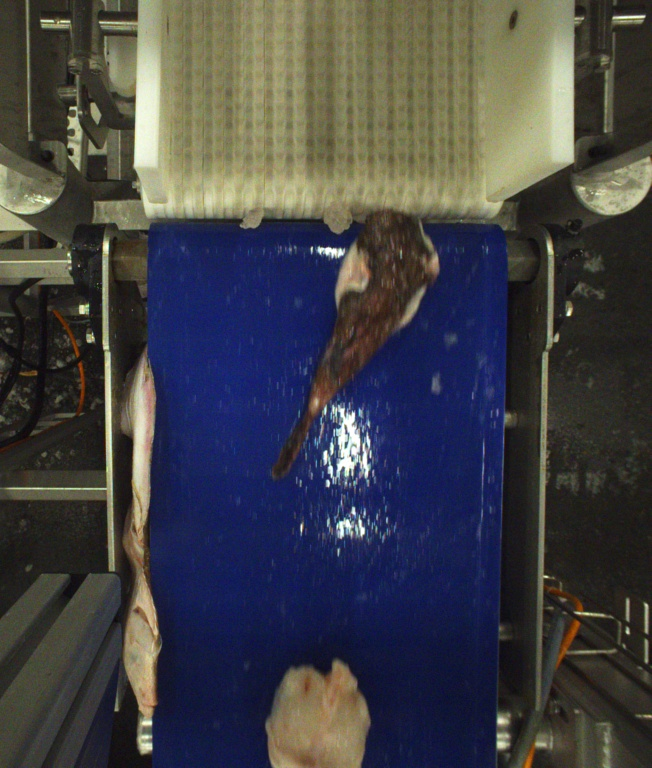ANF: (271, 209, 440, 482)
